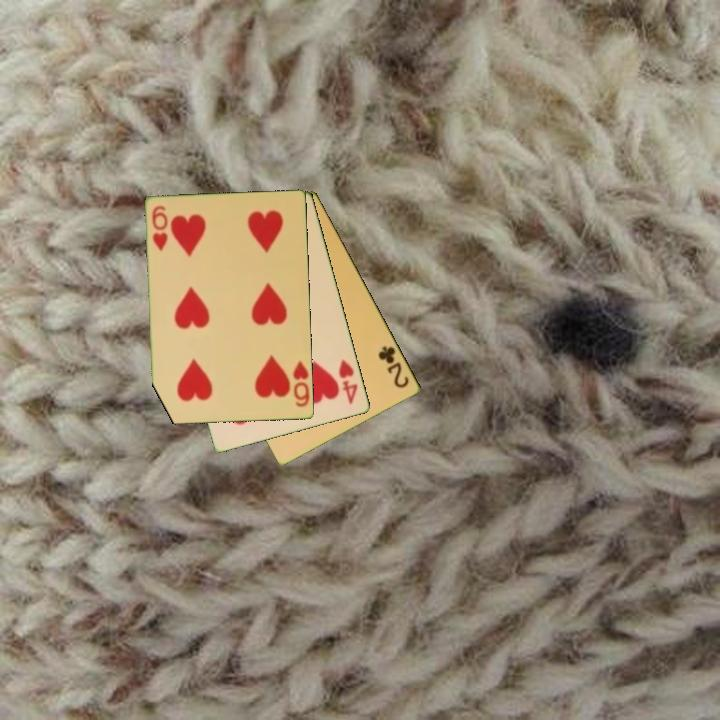2c: (375, 342, 412, 391)
4h: (335, 356, 361, 407)
6h: (290, 358, 312, 410), (149, 202, 171, 254)
